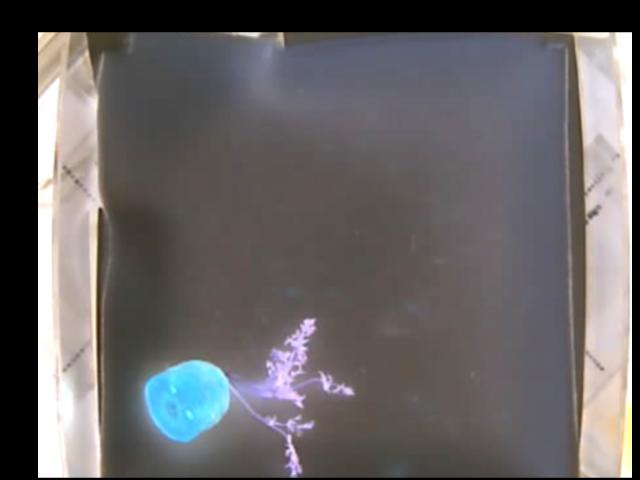Carrot: (143, 317, 356, 475)
